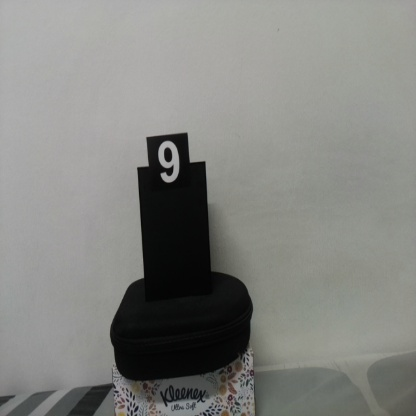id_9: (147, 137, 190, 201)
